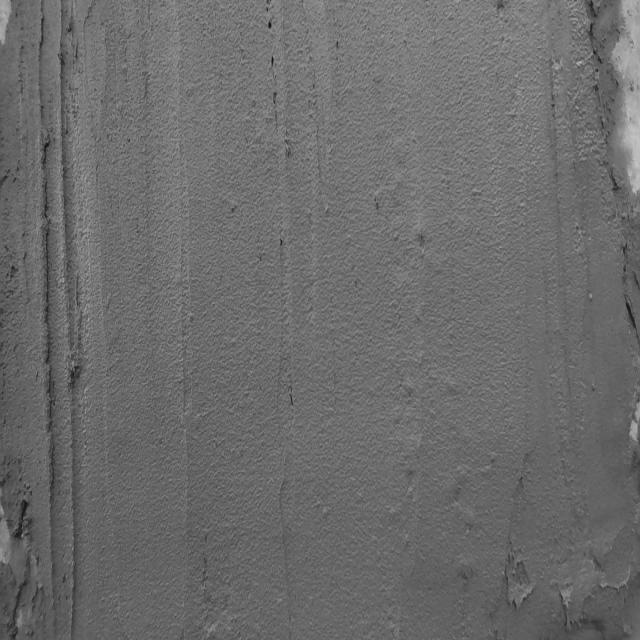trowels marks: (30, 6, 83, 640)
